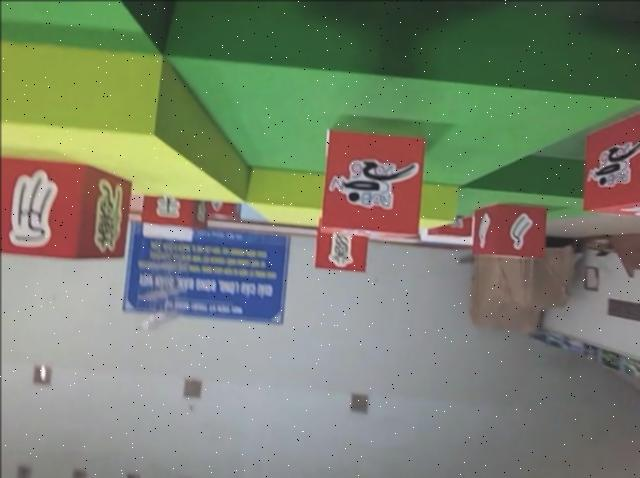R1: (318, 123, 427, 242), (581, 109, 640, 219)
R2 Fake: (0, 155, 134, 261), (312, 216, 370, 275)
R2 Real: (471, 201, 549, 262)
